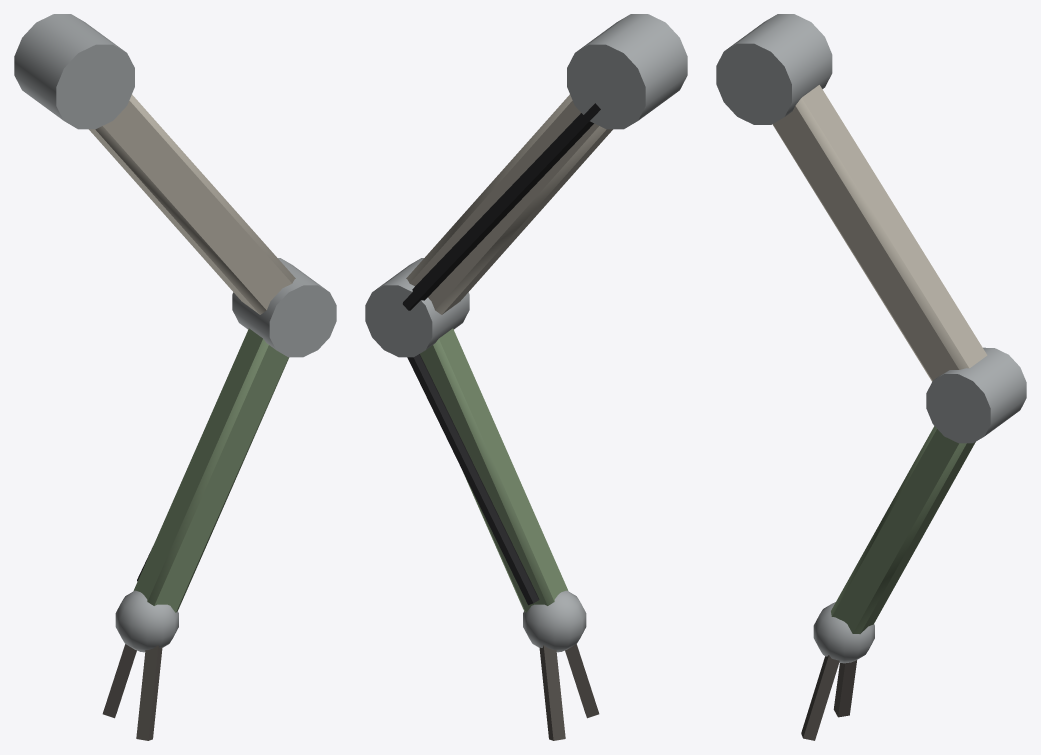
The model's file is arm.glb.
3 views of the same model, side by side, from view 1: azimuth 30°, elevation 25°; view 2: azimuth 150°, elevation 25°; view 3: azimuth 330°, elevation 25° (orthographic). The views are drawn at different scales.
Parts seen in each view (by area): view 1: arm__arm; view 2: arm__arm; view 3: arm__arm.
Boxes of the visible parts, bbox=[...] form: arm__arm: bbox=[14, 14, 336, 740]; arm__arm: bbox=[365, 14, 687, 740]; arm__arm: bbox=[716, 14, 1026, 740].
Bounding box in the file's own units: 0.7004 × 1.68 × 0.1887.
5 materials, 2 textured.
